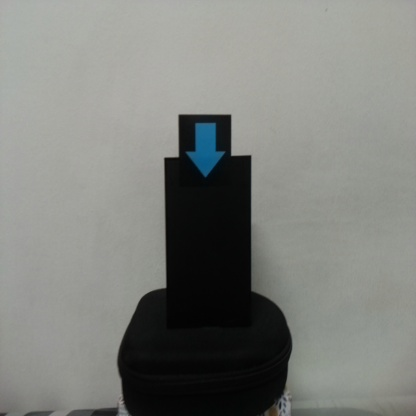id_2: (178, 115, 231, 187)
